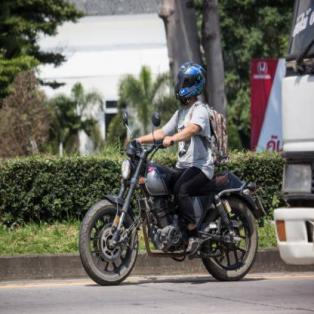Motocicleta: (74, 118, 268, 284)
